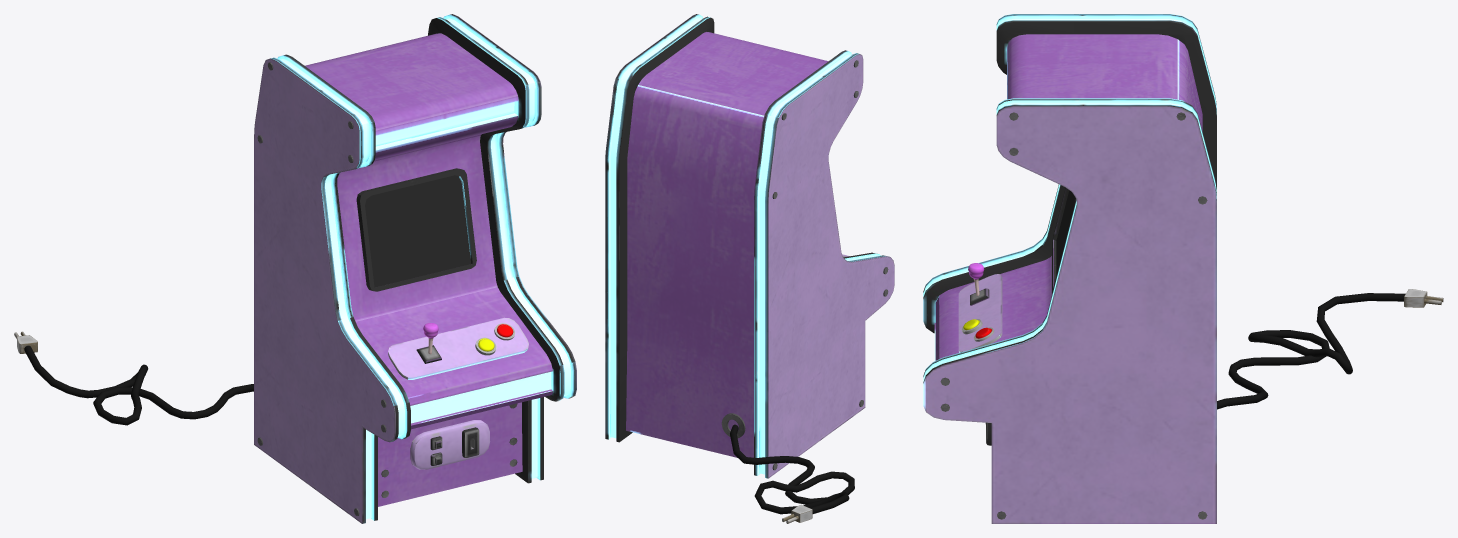
Rendered from arcade_machine.glb.
3 renders of one model, left to right at view 1: azimuth 30°, elevation 25°; view 2: azimuth 150°, elevation 25°; view 3: azimuth 270°, elevation 25°, orthographic. The views are drawn at different scales.
Parts seen in each view (by area): view 1: Cube.001, Cube.008, Cube.004; view 2: Cube.001, Cube.004, Cube.005, Cube.006; view 3: Cube.001, Cube.004, Cube.008.
Part boxes in pixels (<box>): Cube.001: <box>254,14,576,523</box>; Cube.008: <box>365,175,471,287</box>; Cube.004: <box>24,345,253,425</box>; Cube.001: <box>605,14,894,478</box>; Cube.004: <box>730,424,854,514</box>; Cube.005: <box>782,504,812,523</box>; Cube.006: <box>721,413,745,437</box>; Cube.001: <box>923,14,1216,523</box>; Cube.004: <box>1217,293,1405,409</box>; Cube.008: <box>1056,190,1074,275</box>.
Bounding box in the file's own units: 392 × 455 × 514.
Materials: 8 (8 with a texture image).
